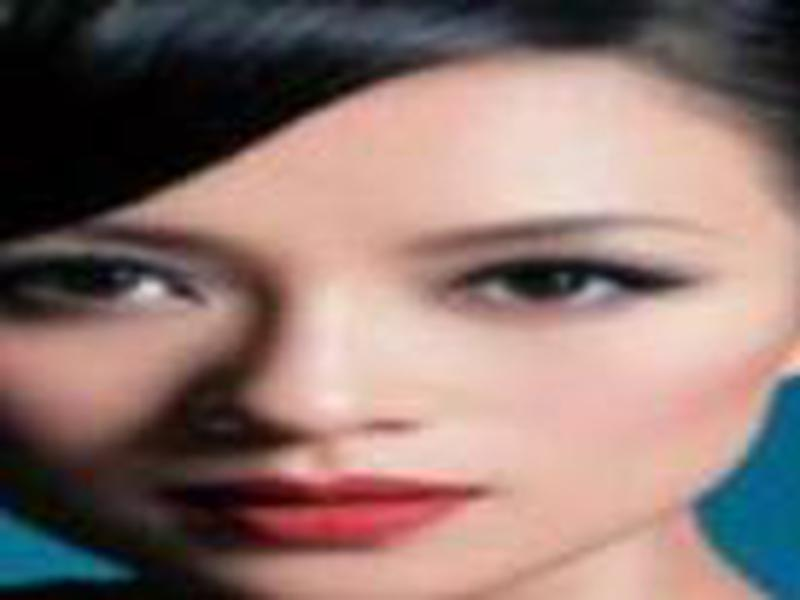without_mask: (6, 85, 782, 595)
